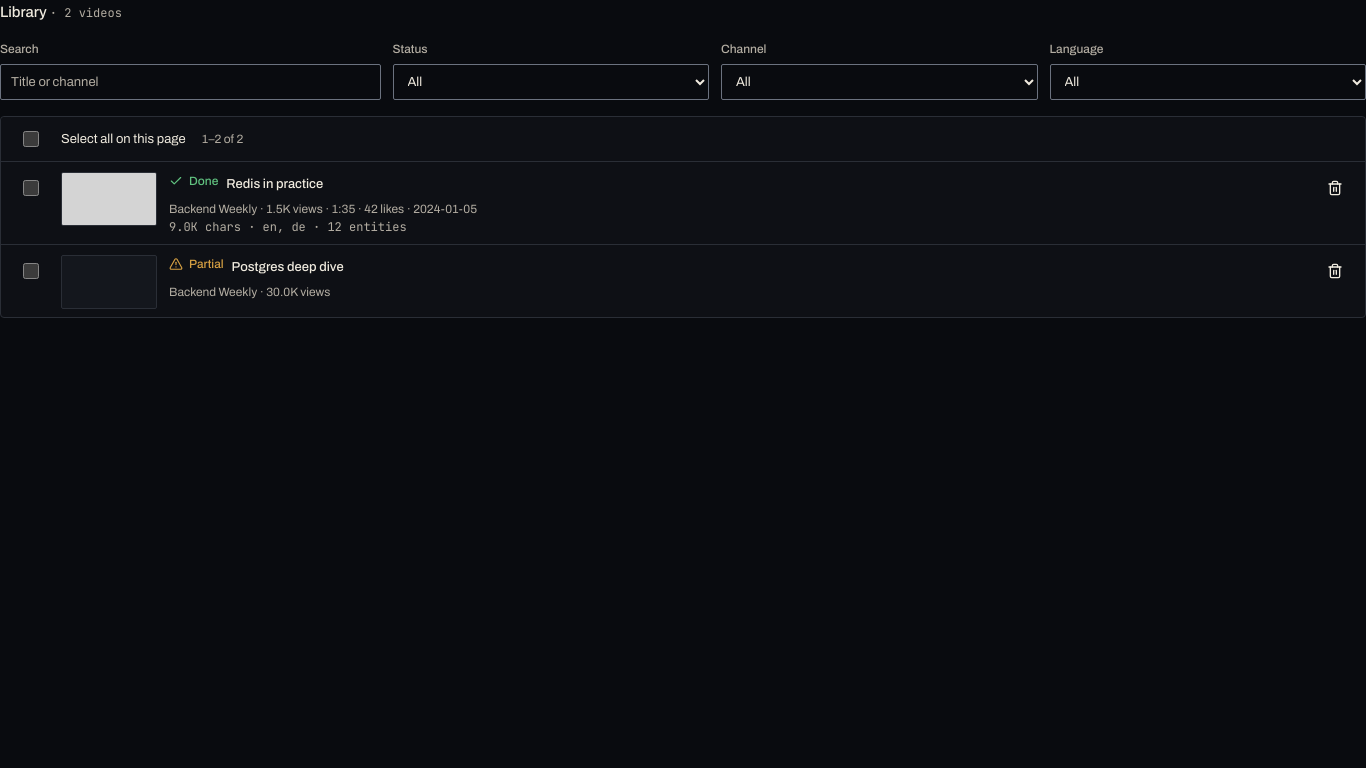
LibraryPanel › deletes one row through its trash button and the confirm dialog
Expected: the link "Redis in practice" is shown, [226,176,493,191]
Click the button named "Delete Redis in practice" at (1335, 188), box [1317,170,1353,206]
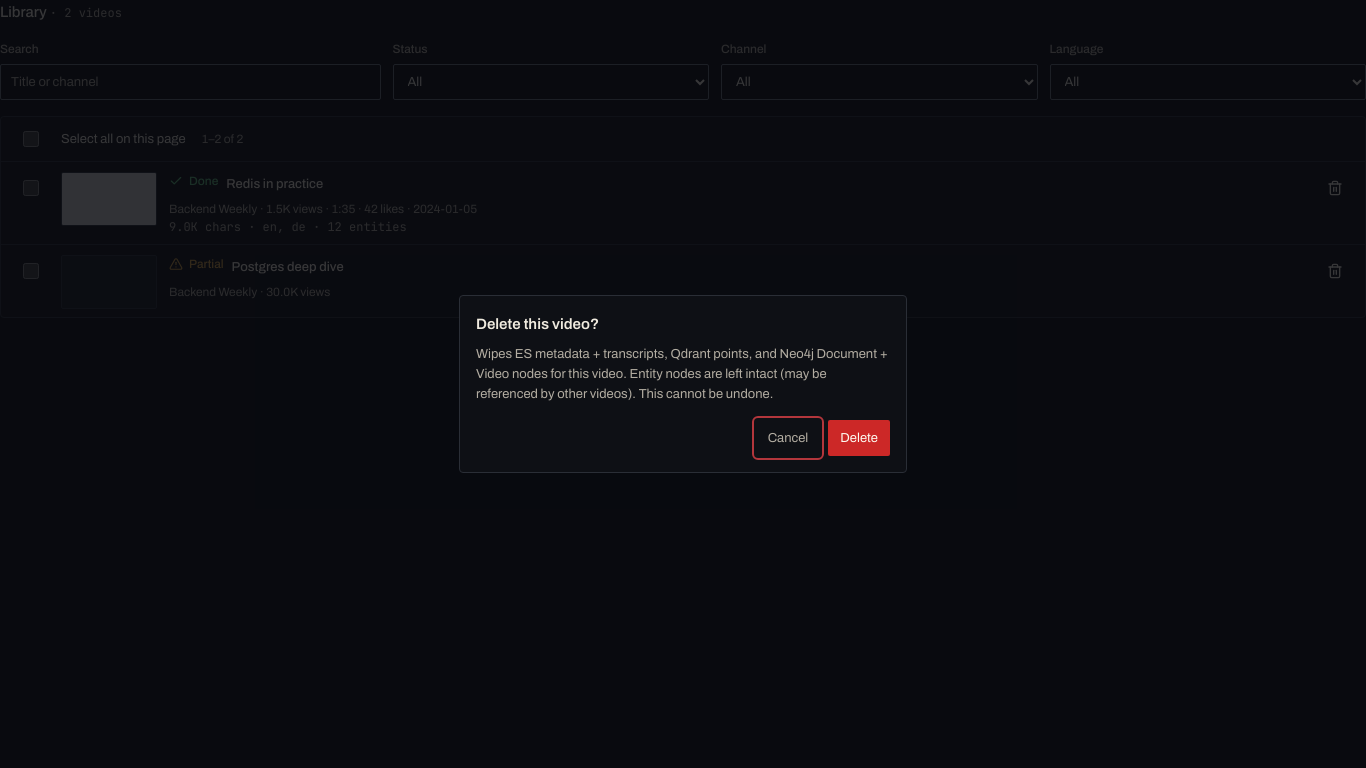
Expected: the heading "Delete this video?" is shown, [476,316,599,332]
Click the button "Delete" at (859, 438), box [828,420,890,456]
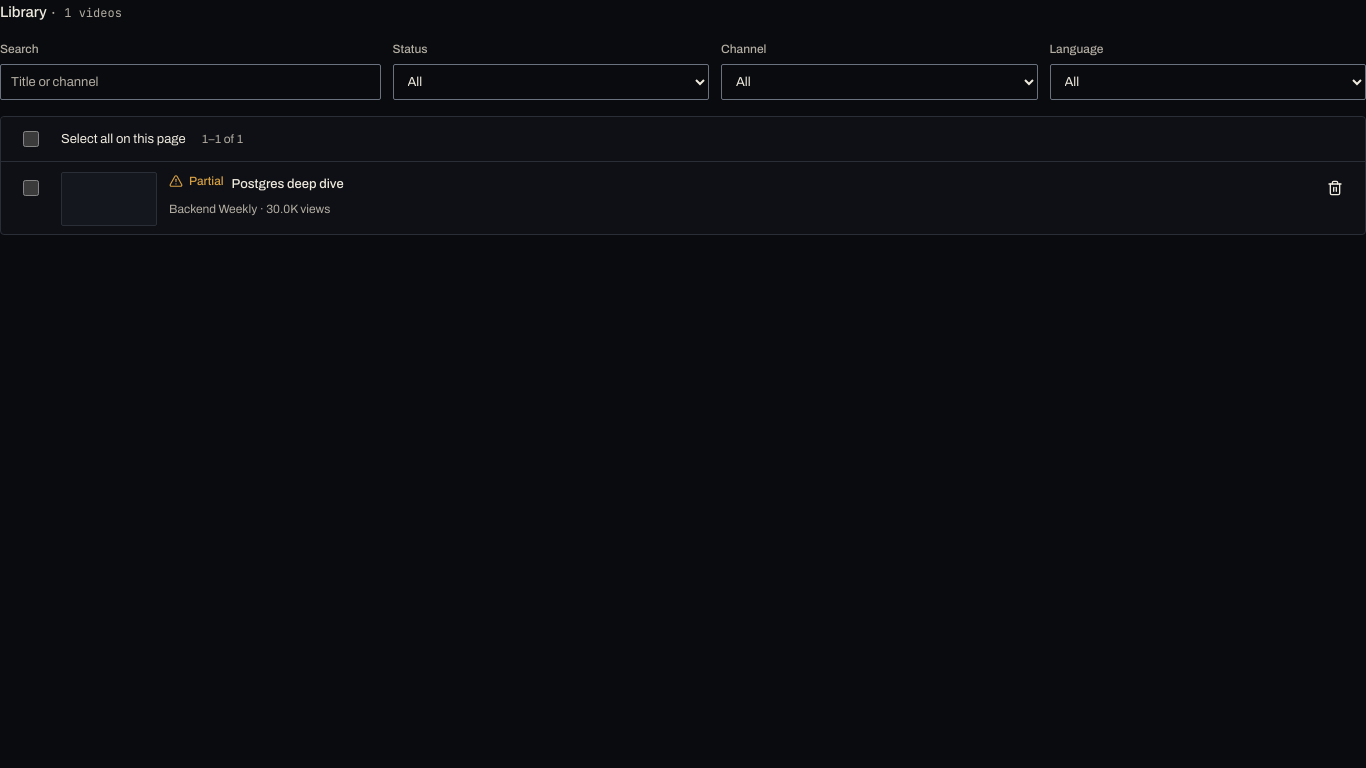
Expected: the link "Postgres deep dive" is shown, [232,176,513,191]
Expected: the link "Redis in practice" is gone
